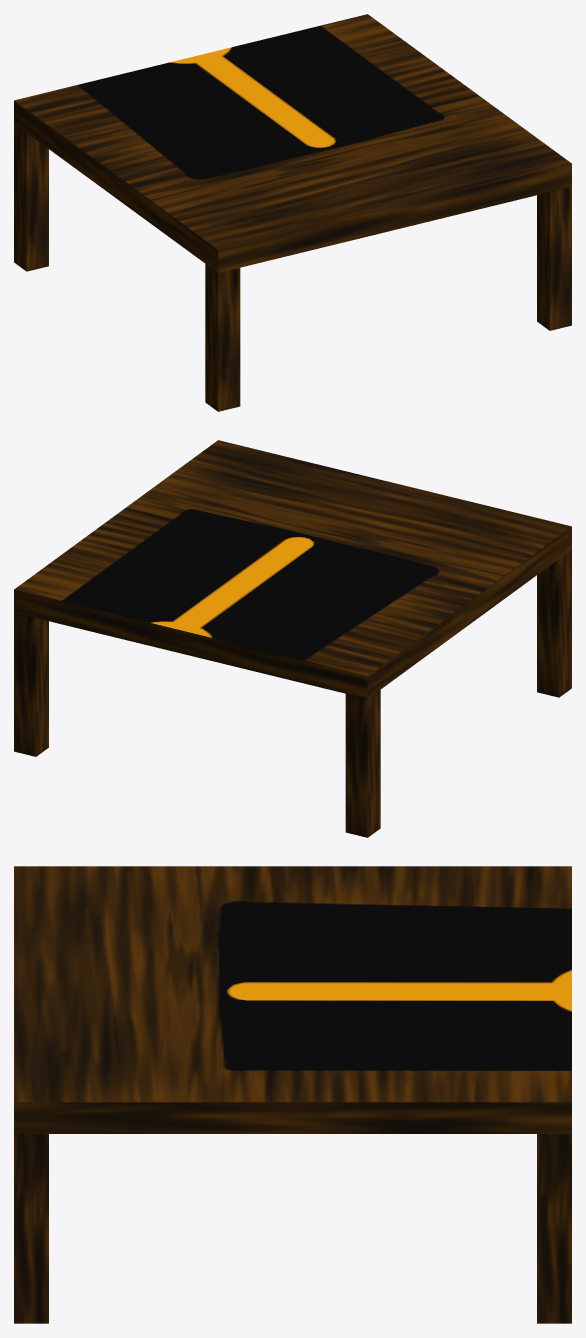
Rendered from Table.obj.
3 renders of one model, top to bottom at view 1: azimuth 30°, elevation 25°; view 2: azimuth 150°, elevation 25°; view 3: azimuth 270°, elevation 25°, orthographic. The views are drawn at different scales.
Parts seen in each view (by area): view 1: Table; view 2: Table; view 3: Table.
Part boxes in pixels (x1,y1,x2,y2): Table: [14, 14, 571, 411]; Table: [14, 440, 571, 837]; Table: [14, 866, 571, 1323].
Bounding box in the file's own units: 1 × 0.4375 × 1.
